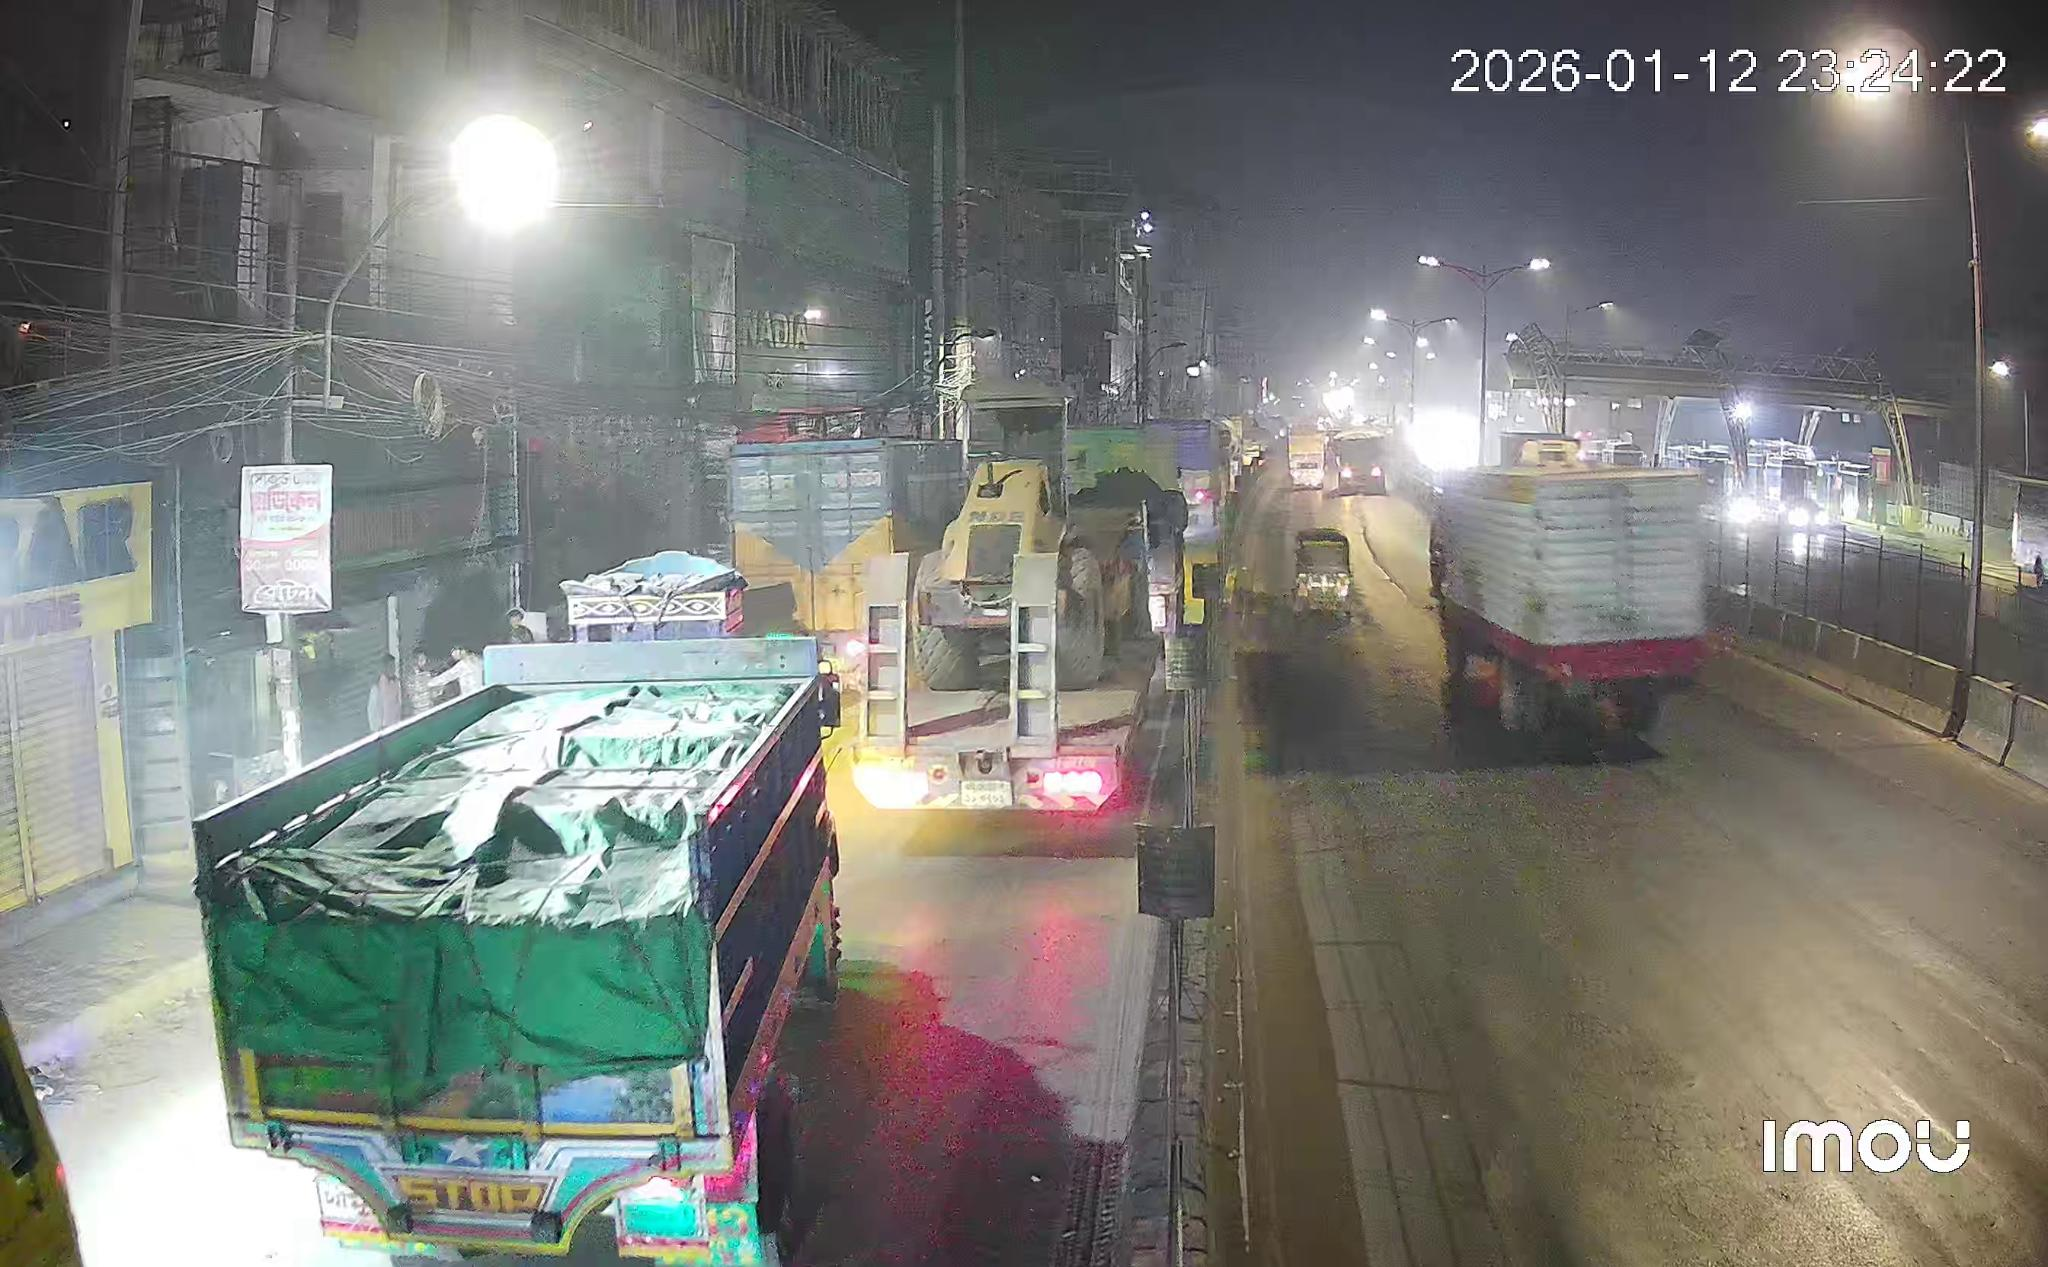CNG-Tempo: (1289, 528, 1353, 625)
Trailer: (850, 380, 1186, 813)
Truck: (195, 552, 838, 1267), (1431, 436, 1707, 736), (729, 439, 964, 677), (1289, 429, 1324, 489)
